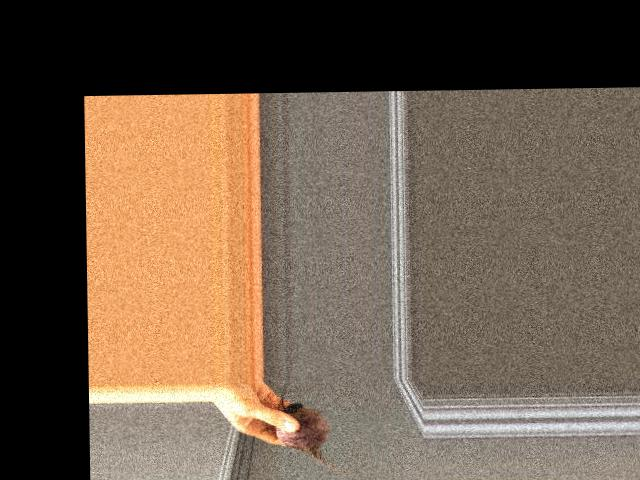beet: (275, 379, 356, 474)
